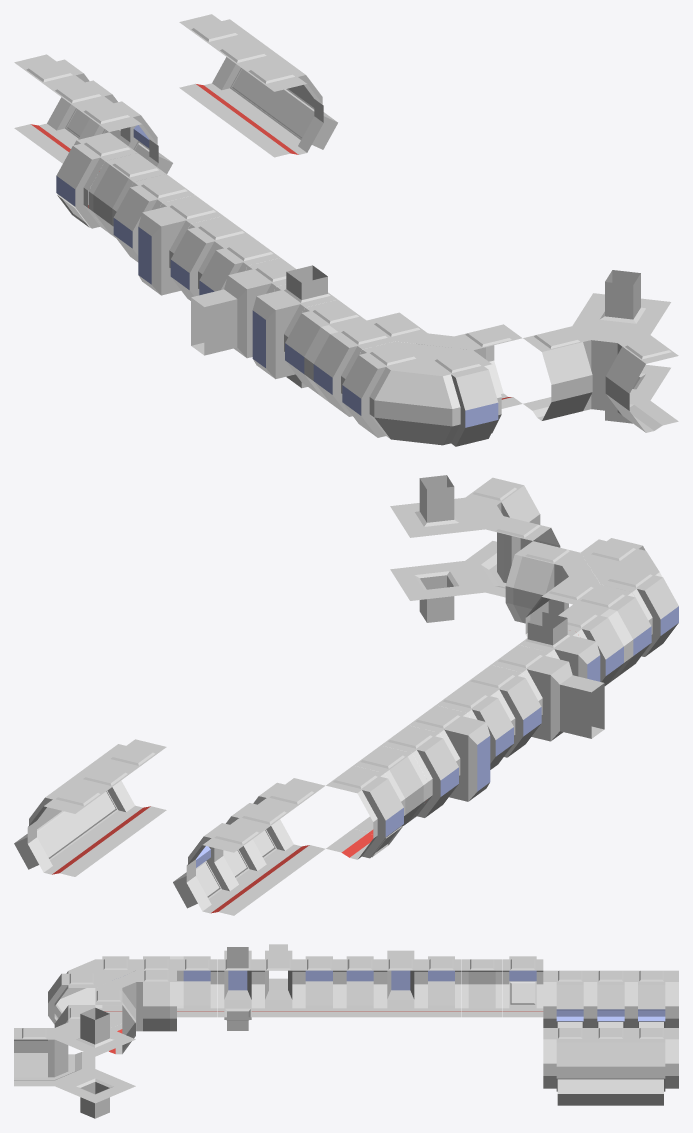
Rendered from spacetile1.fbx.
3 views of the same model, one above another, from view 1: azimuth 30°, elevation 25°; view 2: azimuth 150°, elevation 25°; view 3: azimuth 270°, elevation 25° (orthographic). The views are drawn at different scales.
Visible parts, largest first — view 1: corridor.intersection.master, corridor.corner.outer, corridor.triple, corridor.triplebrace, corridor.straight.double, corridor.junction.horizontal, corridor.straight.doublebrace, corridor.junction.vertical, corridor.junction.circuit, corridor.single3, corridor.corner.inner, corridor.single2 (+1 smaller); view 2: corridor.intersection.master, corridor.triple, corridor.triplebrace, corridor.junction.horizontal, corridor.straight.doublebrace, corridor.corner.inner, corridor.straight.double, corridor.corner.outer, corridor.single3, corridor.junction.circuit, corridor.single1, corridor.junction.vertical (+1 smaller); view 3: corridor.triple, corridor.intersection.master, corridor.triplebrace, corridor.straight.doublebrace, corridor.corner.inner, corridor.corner.outer, corridor.straight.double, corridor.junction.vertical, corridor.junction.circuit, corridor.junction.horizontal, corridor.single3, corridor.single1 (+1 smaller).
Boxes of the visible parts, bbox=[...] form: corridor.intersection.master: bbox=[523, 270, 678, 432]; corridor.corner.outer: bbox=[342, 341, 501, 446]; corridor.triple: bbox=[179, 14, 337, 157]; corridor.triplebrace: bbox=[14, 54, 172, 174]; corridor.straight.double: bbox=[285, 299, 394, 416]; corridor.junction.horizontal: bbox=[191, 258, 295, 358]; corridor.straight.doublebrace: bbox=[170, 216, 280, 300]; corridor.junction.vertical: bbox=[252, 265, 337, 388]; corridor.junction.circuit: bbox=[138, 195, 223, 295]; corridor.single3: bbox=[56, 132, 137, 229]; corridor.corner.inner: bbox=[367, 312, 522, 408]; corridor.single2: bbox=[88, 153, 165, 237]; corridor.intersection.master: bbox=[390, 475, 560, 622]; corridor.triple: bbox=[14, 739, 166, 876]; corridor.triplebrace: bbox=[173, 778, 325, 915]; corridor.junction.horizontal: bbox=[491, 645, 604, 741]; corridor.straight.doublebrace: bbox=[436, 665, 541, 769]; corridor.corner.inner: bbox=[505, 541, 600, 637]; corridor.straight.double: bbox=[558, 584, 651, 685]; corridor.corner.outer: bbox=[580, 538, 678, 656]; corridor.single3: bbox=[326, 765, 403, 859]; corridor.junction.circuit: bbox=[408, 705, 490, 801]; corridor.single1: bbox=[381, 725, 458, 818]; corridor.junction.vertical: bbox=[518, 612, 600, 681]; corridor.triple: bbox=[543, 1028, 678, 1105]; corridor.intersection.master: bbox=[14, 1005, 135, 1118]; corridor.triplebrace: bbox=[543, 970, 678, 1027]; corridor.straight.doublebrace: bbox=[299, 956, 380, 1017]; corridor.corner.inner: bbox=[95, 970, 176, 1054]; corridor.corner.outer: bbox=[48, 956, 135, 1028]; corridor.straight.double: bbox=[136, 956, 217, 1017]; corridor.junction.vertical: bbox=[217, 947, 258, 1030]; corridor.junction.circuit: bbox=[380, 950, 420, 1017]; corridor.junction.horizontal: bbox=[258, 944, 298, 1017]; corridor.single3: bbox=[502, 956, 543, 1017]; corridor.single1: bbox=[421, 956, 461, 1017].
Bounding box in the file's own units: 2090 × 802 × 4900.
